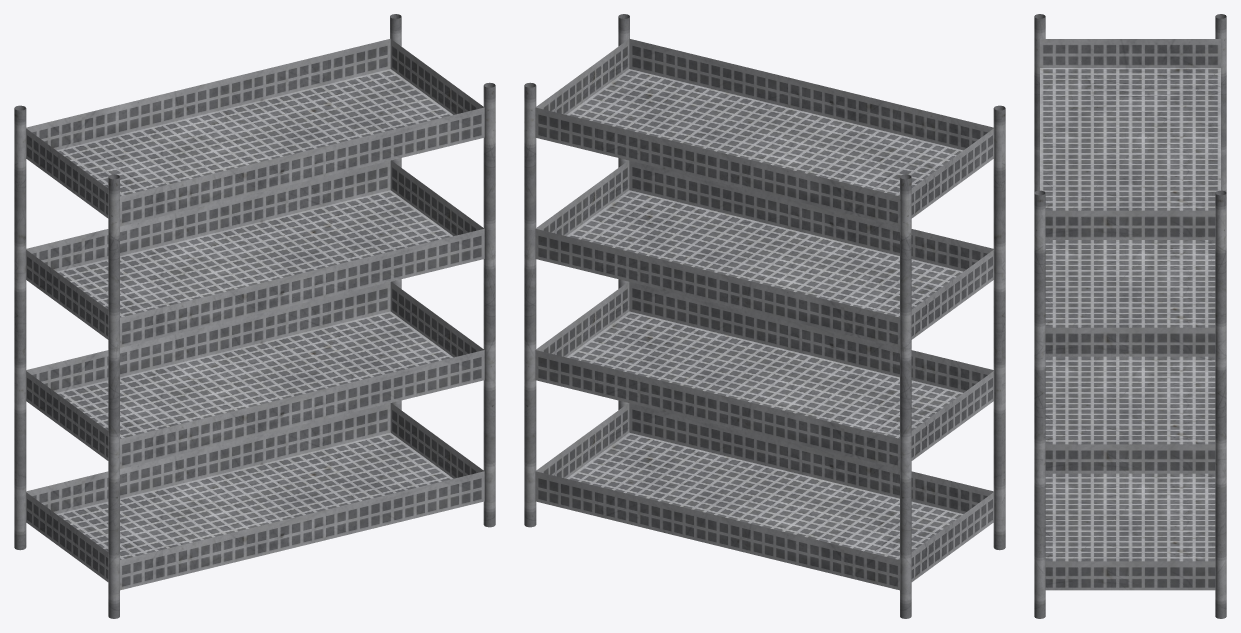
Rendered from basket_shelving_for_store_or_warehouse.glb.
3 renders of one model, left to right at view 1: azimuth 30°, elevation 25°; view 2: azimuth 150°, elevation 25°; view 3: azimuth 270°, elevation 25°, orthographic. The views are drawn at different scales.
Parts seen in each view (by area): view 1: Material2 (×2); view 2: Material2 (×2); view 3: Material2 (×2).
Part boxes in pixels (x1,y1,x2,y2): Material2 (×2): (14, 14, 495, 618); Material2 (×2): (524, 14, 1005, 618); Material2 (×2): (1034, 14, 1226, 618).
Bounding box in the file's own units: 67.55 × 73.56 × 30.29.
Materials: 2 (2 with a texture image).
